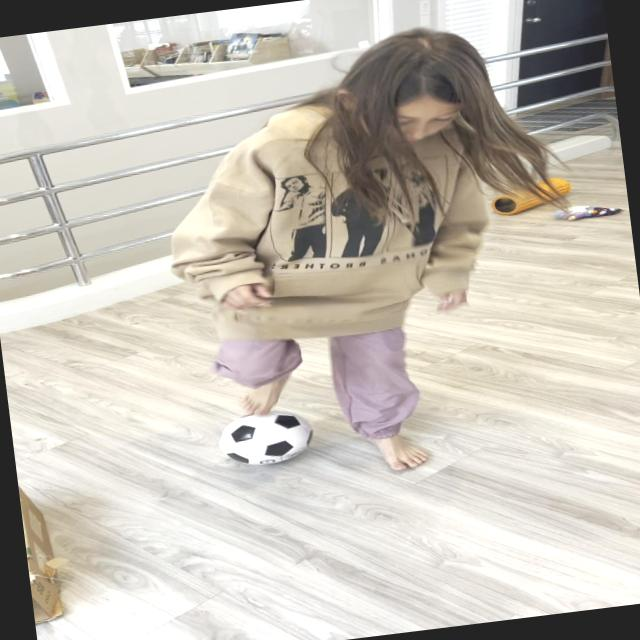Soccer Ball: (215, 404, 317, 469)
